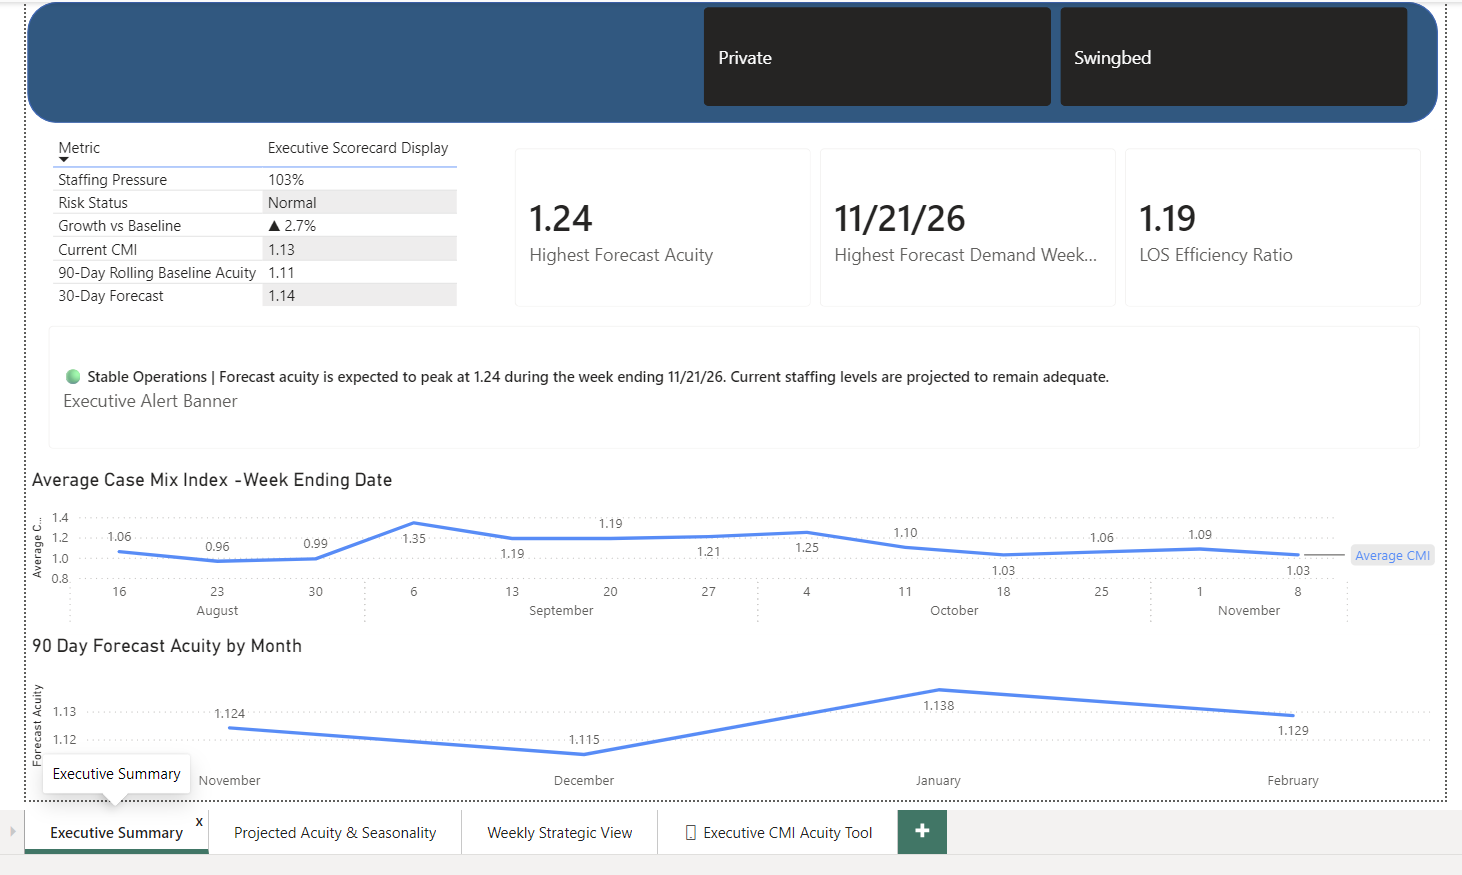

Layout of this report page (visuals, bound fields, positions):
{"tool":"powerbi","page":{"name":"Executive Summary","canvas":[1280,720],"ordinal":0},"visuals":[{"type":"shape","box":[1.3,0,1272,109.2],"z":0},{"type":"tableEx","fields":{"Values":["Executive Scorecard.Metric","Executive Scorecard.Executive Scorecard Display"]},"box":[17.6,115.4,415.2,166.1],"z":1000},{"type":"cardVisual","fields":{"Data":["Acuity Forecast Calendar.Highest Forecast Acuity","Med-Surg DRG.Highest Forecast Demand Week","Med-Surg DRG.LOS Efficiency Ratio"]},"box":[423.2,115.4,852.4,177.1],"z":3000},{"type":"lineChart","title":"Average Case Mix Index -Week Ending Date","fields":{"Category":["Calendar.Week Ending.Variation.Date Hierarchy.Month","Calendar.Week Ending.Variation.Date Hierarchy.Day"],"Y":["Med-Surg DRG.Average CMI"]},"box":[0,420.3,1275.6,149.9],"z":4000},{"type":"lineChart","title":"90 Day Forecast Acuity by Month","fields":{"Category":["Acuity Forecast Calendar.Forecast Month"],"Y":["Acuity Forecast Calendar.Forecast Acuity"]},"box":[0,570.2,1275.6,149.9],"z":5000},{"type":"cardVisual","fields":{"Data":["30 Days Acuity Forecast Calendar.Executive Alert Banner"]},"box":[3.7,274.8,1271.9,145.5],"z":6000},{"type":"advancedSlicerVisual","fields":{"Values":["Med-Surg DRG.Enc Accommodation"]},"box":[606.9,0,644.4,99.2],"z":7000}]}

Visuals, with their boxes on the page's 1280x720 design canvas (x1, y1, x2, y2). These are canvas units, not pixel positions in the 1462x875 screenshot, which may show the page scaled, cropped or inside an application window:
shape: [left=1, top=0, right=1273, bottom=109]
tableEx - Executive Scorecard.Metric x Executive Scorecard.Executive Scorecard Display: [left=18, top=115, right=433, bottom=282]
cardVisual - Acuity Forecast Calendar.Highest Forecast Acuity x Med-Surg DRG.Highest Forecast Demand Week: [left=423, top=115, right=1276, bottom=292]
"Average Case Mix Index -Week Ending Date" lineChart: [left=0, top=420, right=1276, bottom=570]
"90 Day Forecast Acuity by Month" lineChart: [left=0, top=570, right=1276, bottom=720]
cardVisual - 30 Days Acuity Forecast Calendar.Executive Alert Banner: [left=4, top=275, right=1276, bottom=420]
advancedSlicerVisual - Med-Surg DRG.Enc Accommodation: [left=607, top=0, right=1251, bottom=99]
